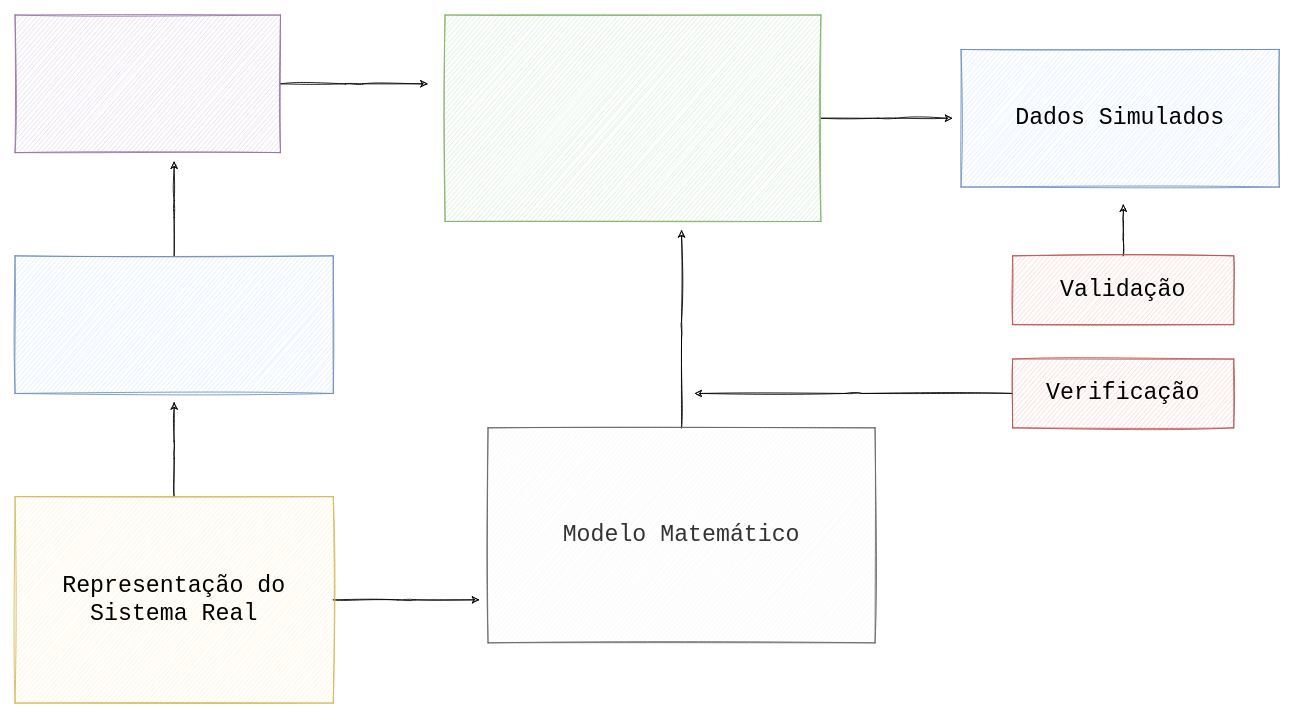
The diagram is 1294 pixels wide and 718 high, and some of its shapes have lost their labels. The centre of each missing label's shape, as x and y in pixels:
Dados Observados: [173,324]
GVA: [147,83]
Simulação: [632,117]
